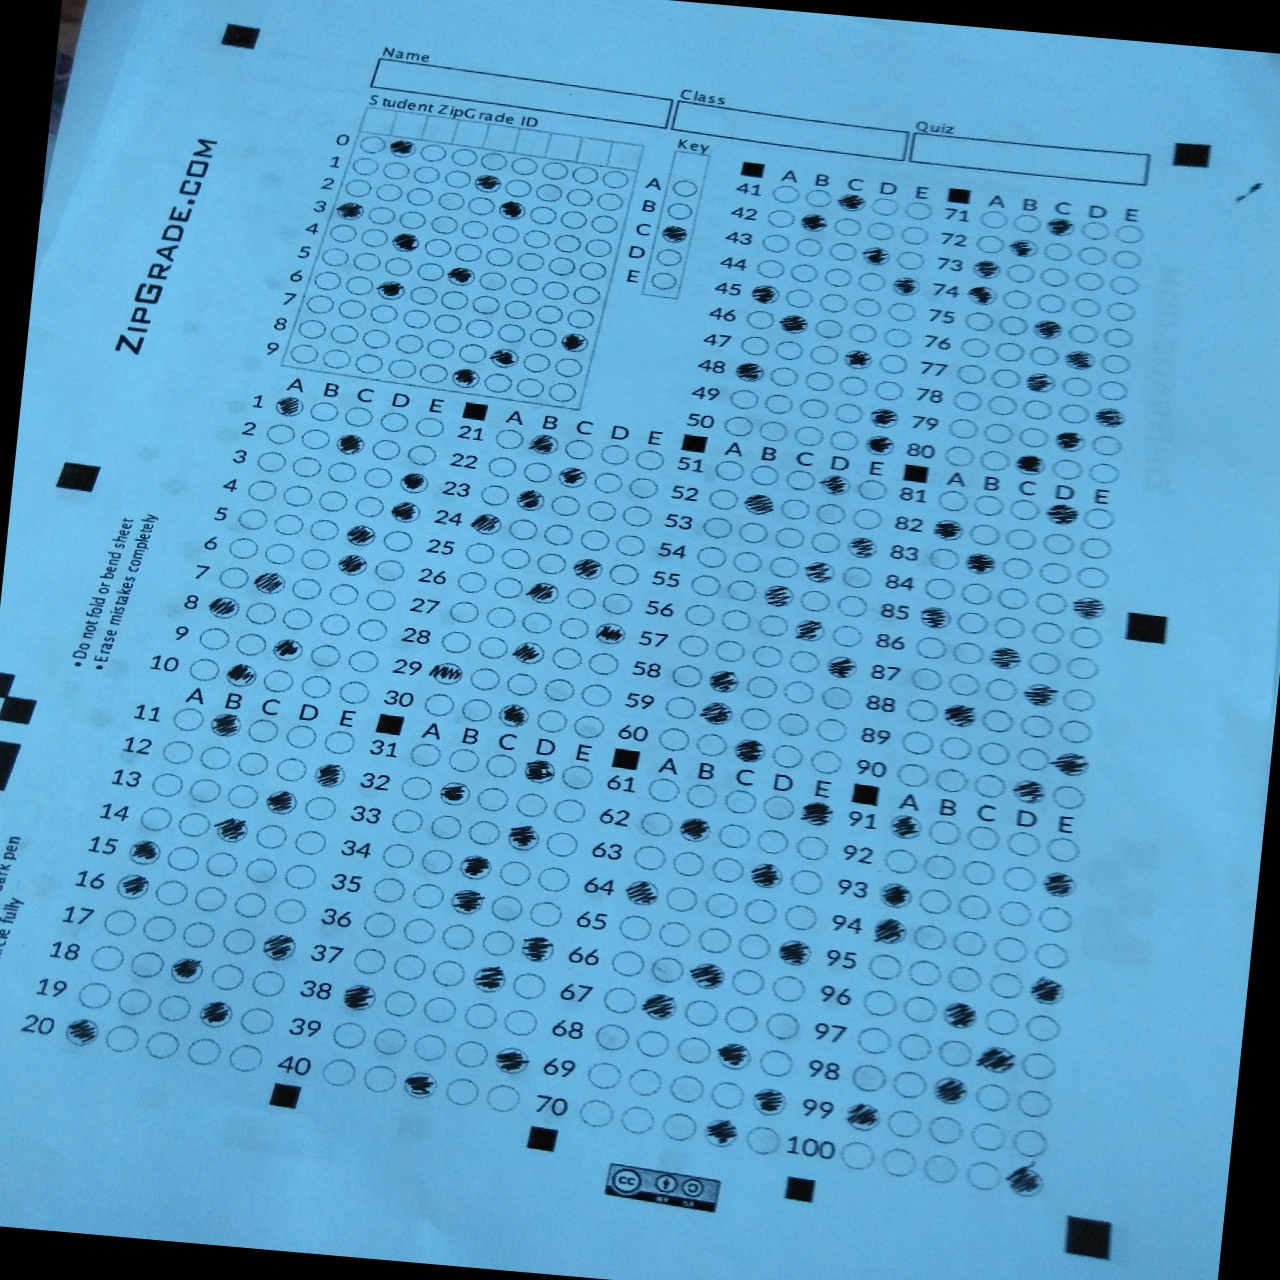not-c: (925, 1112, 967, 1148), (1008, 1126, 1051, 1160), (682, 779, 722, 813), (964, 823, 1005, 856), (855, 1024, 896, 1057), (1013, 1088, 1054, 1121), (967, 1121, 1008, 1153), (982, 1005, 1021, 1039), (742, 1124, 782, 1157), (624, 1067, 663, 1099), (599, 985, 639, 1017), (761, 1009, 801, 1042), (768, 973, 808, 1006), (694, 924, 734, 956), (701, 890, 741, 922), (629, 842, 669, 874), (644, 774, 683, 806), (720, 787, 760, 819), (1000, 863, 1040, 896), (998, 896, 1037, 928), (1032, 940, 1071, 973), (905, 958, 945, 990), (964, 1160, 1003, 1193), (617, 1103, 658, 1135), (990, 933, 1032, 965), (972, 1082, 1013, 1114), (888, 1069, 930, 1101), (847, 1062, 888, 1094), (884, 1107, 925, 1138), (836, 1139, 877, 1171), (878, 1146, 919, 1178), (919, 1153, 960, 1185), (542, 828, 580, 860), (359, 908, 397, 941), (707, 1080, 745, 1112), (666, 1073, 704, 1105), (586, 1058, 625, 1091), (656, 919, 695, 952), (662, 883, 701, 915), (669, 846, 708, 879), (925, 816, 964, 849), (1044, 833, 1083, 866), (1036, 903, 1075, 935), (949, 926, 988, 959), (867, 949, 906, 982), (986, 968, 1024, 1001), (896, 1030, 934, 1063), (577, 1098, 617, 1130), (659, 1111, 699, 1143), (606, 949, 646, 981), (633, 1028, 673, 1060), (674, 1034, 714, 1065), (756, 1048, 796, 1080), (722, 1005, 762, 1036), (728, 966, 768, 998), (734, 932, 774, 964), (781, 903, 821, 934), (788, 866, 828, 898), (794, 833, 833, 865), (713, 819, 753, 851), (636, 809, 676, 840), (879, 845, 919, 877), (958, 858, 998, 890), (860, 986, 900, 1017), (1023, 1012, 1063, 1043), (1017, 1050, 1057, 1082), (897, 728, 937, 760), (202, 849, 239, 881), (397, 774, 435, 806), (408, 738, 445, 771), (535, 862, 572, 894), (527, 897, 565, 930), (115, 985, 152, 1017), (410, 1032, 448, 1064), (349, 945, 387, 978), (1005, 829, 1042, 862), (241, 855, 280, 886), (379, 840, 417, 872), (482, 750, 520, 782), (271, 896, 309, 927), (593, 1022, 632, 1054), (614, 911, 653, 942), (648, 955, 687, 987), (683, 996, 722, 1028), (741, 896, 779, 927), (754, 826, 792, 858), (708, 853, 747, 885), (760, 792, 798, 824), (921, 850, 960, 881), (915, 884, 954, 915), (954, 891, 993, 922), (911, 920, 949, 952), (899, 993, 938, 1024), (945, 964, 983, 995), (934, 1036, 973, 1068), (1063, 653, 1102, 685), (806, 745, 845, 777), (768, 740, 806, 771), (662, 692, 701, 723), (370, 1024, 407, 1057), (430, 958, 467, 990), (489, 892, 526, 924), (409, 880, 447, 912), (152, 877, 190, 908), (129, 949, 166, 981), (103, 1022, 141, 1054), (209, 961, 246, 993), (179, 918, 217, 949), (250, 967, 287, 999), (238, 1005, 275, 1036), (185, 1035, 223, 1067), (320, 1057, 358, 1089), (483, 1082, 520, 1114), (511, 971, 549, 1002), (440, 921, 477, 953), (392, 952, 429, 983), (785, 645, 823, 676), (101, 907, 139, 938), (502, 1008, 540, 1039), (461, 1001, 499, 1032), (893, 761, 932, 791), (932, 765, 971, 796), (903, 694, 941, 724), (979, 706, 1017, 736), (1056, 717, 1095, 748), (673, 631, 712, 661), (692, 730, 731, 760), (551, 796, 587, 828), (474, 783, 510, 815), (418, 846, 455, 878), (89, 942, 125, 974), (144, 1029, 181, 1061), (157, 993, 193, 1024), (220, 926, 257, 958), (193, 884, 230, 915), (329, 1020, 366, 1051), (382, 988, 418, 1020), (281, 862, 319, 892), (558, 762, 595, 792), (465, 818, 503, 849), (139, 914, 177, 945), (231, 890, 268, 920), (227, 1043, 265, 1074), (443, 1076, 481, 1107), (478, 927, 516, 958), (400, 915, 437, 946), (422, 994, 459, 1024), (907, 665, 945, 695), (946, 669, 983, 700), (983, 674, 1021, 704), (1060, 685, 1097, 715), (668, 662, 706, 693), (912, 633, 949, 663), (937, 735, 975, 764), (712, 635, 750, 665), (77, 980, 113, 1012), (389, 806, 425, 837), (513, 790, 550, 821), (428, 811, 464, 842), (164, 843, 200, 873), (454, 1040, 490, 1070), (362, 1063, 399, 1094), (1051, 783, 1088, 813), (496, 859, 533, 888), (976, 738, 1014, 768), (921, 573, 959, 602), (736, 704, 774, 734), (742, 673, 779, 702), (829, 622, 867, 651), (370, 876, 406, 906), (483, 602, 519, 632), (282, 722, 319, 751), (444, 745, 481, 775), (1015, 743, 1051, 772), (1017, 712, 1054, 741), (656, 724, 693, 754), (750, 642, 787, 672), (755, 611, 791, 640), (719, 607, 755, 636), (971, 771, 1008, 799), (779, 678, 817, 706), (681, 601, 719, 629), (999, 554, 1036, 583), (704, 486, 742, 515), (1024, 651, 1063, 678), (847, 505, 886, 532), (260, 667, 295, 696), (454, 568, 489, 598), (298, 673, 334, 701), (171, 706, 207, 734), (421, 690, 457, 719), (542, 676, 578, 704), (475, 634, 511, 662), (549, 645, 585, 673), (598, 588, 634, 617), (236, 750, 272, 778), (292, 829, 328, 857), (813, 716, 850, 744), (775, 710, 811, 738), (1034, 588, 1070, 617), (797, 588, 835, 615), (723, 576, 761, 602), (688, 571, 726, 598), (693, 543, 730, 570), (838, 564, 876, 591), (954, 610, 992, 636), (958, 580, 995, 607), (935, 488, 973, 515), (1080, 505, 1117, 532), (1074, 564, 1111, 591), (734, 519, 771, 546), (697, 515, 735, 542), (747, 462, 784, 489), (578, 681, 612, 710), (336, 678, 372, 706), (533, 706, 568, 734), (467, 666, 502, 694), (445, 598, 481, 626), (606, 560, 641, 588), (535, 551, 570, 579), (321, 729, 356, 757), (198, 744, 233, 772), (138, 805, 173, 833), (186, 776, 222, 804), (302, 794, 338, 822), (819, 683, 855, 712), (489, 576, 525, 602), (833, 593, 870, 620), (729, 549, 765, 576), (765, 554, 802, 581), (949, 639, 986, 666), (1030, 619, 1067, 646), (1067, 625, 1103, 652), (990, 615, 1027, 642), (994, 584, 1030, 611), (966, 522, 1002, 549), (927, 545, 964, 572), (772, 523, 809, 550), (813, 501, 850, 527), (853, 476, 890, 503), (784, 467, 821, 493), (712, 457, 748, 484), (188, 656, 222, 685), (554, 615, 588, 644), (563, 584, 597, 612), (246, 717, 280, 745), (275, 756, 309, 784), (161, 738, 195, 767), (151, 771, 185, 799), (256, 822, 290, 850), (297, 546, 332, 573), (290, 576, 325, 602), (458, 696, 493, 723), (505, 670, 540, 697), (586, 651, 621, 678), (519, 610, 554, 636), (177, 812, 212, 839), (225, 783, 260, 810), (1003, 526, 1039, 553), (1078, 535, 1114, 561), (778, 497, 813, 524), (971, 491, 1007, 517), (1006, 496, 1042, 522), (1039, 531, 1075, 557), (809, 529, 845, 554), (245, 477, 279, 504), (355, 617, 389, 644), (572, 714, 606, 741), (440, 629, 474, 656), (620, 504, 654, 531), (520, 458, 554, 485), (1036, 263, 1070, 290), (1114, 222, 1148, 248), (307, 517, 342, 543), (280, 605, 315, 631), (612, 532, 647, 558), (1037, 561, 1073, 587), (765, 363, 801, 389), (942, 443, 978, 469), (855, 270, 890, 295), (754, 256, 789, 281), (762, 205, 797, 231), (382, 527, 415, 554), (309, 642, 342, 669), (542, 522, 574, 549), (578, 527, 611, 554), (485, 454, 518, 481), (633, 447, 666, 474), (962, 309, 995, 336), (325, 459, 359, 485), (316, 489, 350, 515), (217, 565, 251, 591), (327, 581, 361, 607), (365, 587, 399, 613), (244, 600, 278, 626), (234, 631, 268, 656), (462, 540, 496, 566), (505, 517, 539, 543), (585, 499, 619, 525), (598, 443, 632, 469), (492, 425, 526, 451), (837, 373, 871, 399), (772, 338, 806, 363), (812, 316, 846, 342), (844, 321, 878, 347), (879, 325, 913, 350), (783, 284, 817, 309), (978, 448, 1012, 474), (945, 417, 979, 443), (992, 338, 1026, 363), (989, 365, 1023, 390), (1017, 425, 1051, 451), (1051, 455, 1085, 481), (1085, 459, 1119, 485), (1090, 433, 1124, 458), (1060, 374, 1094, 400), (1095, 379, 1129, 404), (1098, 352, 1132, 377), (1027, 343, 1061, 369), (1067, 321, 1101, 347), (1070, 294, 1104, 320), (1035, 291, 1069, 316), (1080, 218, 1114, 244), (1075, 243, 1109, 268), (978, 206, 1012, 232), (758, 230, 792, 256), (830, 215, 864, 240), (737, 334, 772, 359), (1020, 397, 1055, 422), (866, 195, 903, 218), (290, 454, 322, 479), (226, 536, 259, 561), (319, 612, 352, 638), (197, 626, 230, 652), (499, 545, 532, 571), (592, 470, 625, 496), (722, 414, 755, 440), (757, 418, 790, 444), (833, 401, 866, 427), (876, 352, 908, 377), (798, 396, 831, 422), (762, 390, 795, 416), (802, 368, 835, 394), (743, 306, 776, 332), (817, 290, 850, 315), (986, 393, 1019, 418), (1101, 324, 1133, 349), (1107, 271, 1139, 297), (374, 558, 408, 583), (345, 649, 379, 674), (549, 493, 583, 518), (627, 476, 661, 501), (561, 437, 595, 462), (826, 428, 860, 452), (872, 380, 906, 404), (726, 387, 760, 411), (884, 299, 918, 324), (852, 295, 886, 320), (981, 421, 1015, 445), (951, 389, 985, 414), (958, 335, 992, 360), (1104, 299, 1138, 324), (1042, 239, 1076, 264), (973, 232, 1007, 257), (1010, 211, 1044, 236), (768, 182, 802, 206), (801, 185, 835, 210), (308, 399, 340, 424), (341, 406, 374, 430), (377, 409, 410, 434), (407, 443, 440, 468), (300, 427, 333, 451), (353, 493, 386, 518), (236, 506, 268, 531), (272, 512, 305, 537), (263, 542, 295, 566), (478, 483, 511, 508), (792, 423, 825, 448), (808, 342, 840, 367), (998, 313, 1030, 338), (1001, 286, 1034, 311), (1071, 267, 1104, 292), (1110, 247, 1143, 272), (823, 265, 856, 290), (788, 261, 821, 286), (1056, 402, 1090, 425), (1005, 263, 1039, 286), (828, 239, 862, 263), (312, 268, 343, 293), (414, 415, 445, 440), (254, 449, 286, 474), (361, 465, 393, 490), (282, 483, 314, 508), (568, 164, 601, 188), (577, 259, 610, 282), (400, 307, 433, 331), (369, 437, 402, 461), (264, 422, 297, 445), (956, 363, 989, 387), (897, 224, 930, 247), (894, 248, 927, 272), (794, 236, 826, 259), (903, 200, 937, 223), (478, 149, 509, 173), (540, 278, 571, 302), (327, 222, 358, 246), (321, 347, 352, 372), (502, 177, 533, 200), (373, 181, 404, 204), (588, 213, 620, 237), (490, 222, 522, 245), (428, 212, 459, 236), (343, 273, 375, 297), (483, 245, 515, 268), (516, 250, 547, 273), (571, 284, 602, 307), (297, 316, 328, 340), (393, 333, 424, 356), (482, 372, 513, 395), (353, 352, 384, 375), (864, 220, 897, 243), (533, 181, 564, 204), (443, 168, 474, 191), (410, 163, 441, 186), (350, 155, 381, 178), (397, 209, 428, 232), (470, 293, 501, 316), (527, 326, 558, 349), (433, 311, 463, 334), (369, 302, 400, 326), (425, 336, 456, 360), (547, 381, 578, 404), (515, 376, 545, 400), (509, 155, 540, 177), (380, 159, 411, 182), (464, 195, 496, 217), (527, 205, 559, 227), (665, 200, 696, 223), (583, 237, 614, 259), (520, 229, 552, 251), (458, 218, 490, 240), (367, 204, 399, 226), (360, 226, 392, 248), (508, 274, 539, 297), (319, 246, 350, 268), (408, 285, 440, 307), (440, 290, 471, 312), (501, 298, 532, 320), (522, 352, 553, 374), (496, 322, 527, 345), (359, 328, 390, 350), (358, 134, 388, 156), (417, 142, 448, 164), (601, 168, 632, 190), (593, 191, 624, 213), (343, 177, 374, 199), (436, 190, 467, 212), (558, 207, 588, 230), (669, 178, 700, 200), (648, 270, 679, 292), (552, 232, 583, 254), (350, 250, 381, 272), (384, 256, 415, 278), (415, 261, 445, 284), (422, 237, 452, 259), (452, 241, 483, 264), (546, 256, 577, 278), (478, 271, 509, 293), (533, 304, 564, 326), (565, 308, 595, 331), (464, 318, 495, 340), (338, 298, 368, 320), (305, 293, 335, 315), (329, 324, 360, 346), (456, 343, 486, 366), (288, 342, 319, 365), (448, 147, 479, 168), (563, 188, 594, 209), (386, 358, 417, 379), (539, 159, 570, 181), (404, 186, 435, 207), (654, 247, 685, 268), (552, 356, 583, 377), (418, 363, 449, 384)
taken-c: (1003, 1165, 1048, 1201), (940, 999, 983, 1034), (1024, 975, 1070, 1008), (701, 1114, 742, 1150), (930, 1074, 971, 1109), (976, 1042, 1017, 1077), (843, 1101, 883, 1136), (195, 999, 236, 1032), (469, 964, 510, 996), (503, 822, 544, 855), (870, 915, 911, 948), (1020, 678, 1061, 710), (874, 878, 917, 910), (1051, 749, 1094, 781), (940, 701, 982, 733), (749, 1085, 789, 1118), (258, 932, 299, 964), (166, 955, 207, 987), (61, 1016, 102, 1048), (400, 1068, 441, 1099), (517, 934, 558, 966), (445, 885, 486, 917), (454, 853, 495, 885), (433, 779, 474, 811), (518, 757, 559, 789), (492, 701, 533, 733), (1008, 776, 1049, 808), (884, 812, 926, 843), (339, 982, 379, 1014), (492, 1044, 532, 1076), (987, 644, 1027, 675), (1040, 869, 1081, 899), (775, 937, 813, 968), (113, 871, 152, 901), (747, 860, 787, 891), (622, 878, 662, 908), (641, 992, 681, 1022), (213, 816, 252, 846), (715, 1041, 754, 1071), (915, 604, 955, 633), (124, 838, 162, 869), (678, 815, 715, 845), (223, 661, 261, 690), (309, 761, 348, 790), (263, 788, 301, 817), (962, 551, 1001, 580), (931, 515, 969, 544), (252, 568, 290, 598), (731, 737, 769, 767), (690, 962, 728, 992), (1071, 594, 1110, 622), (206, 593, 243, 622), (429, 659, 465, 688), (509, 639, 545, 668), (592, 620, 628, 649), (469, 511, 505, 540), (524, 429, 560, 458), (799, 799, 836, 829), (270, 636, 307, 665), (510, 486, 547, 515), (824, 653, 862, 681), (1051, 427, 1089, 455), (1061, 347, 1099, 374), (526, 579, 561, 608), (570, 554, 605, 584), (802, 558, 838, 586), (700, 700, 736, 728), (1030, 316, 1067, 345), (1007, 234, 1043, 263), (207, 712, 245, 738), (760, 583, 797, 610), (707, 668, 744, 695), (1021, 369, 1058, 396), (553, 464, 588, 492), (794, 617, 830, 644), (1044, 502, 1081, 529), (1013, 452, 1049, 479), (964, 282, 1000, 309), (968, 256, 1005, 282), (1043, 215, 1080, 241), (731, 358, 767, 384), (862, 433, 897, 459), (1092, 406, 1128, 433), (844, 535, 880, 560), (343, 522, 377, 549), (335, 551, 369, 578), (777, 311, 811, 338), (840, 345, 874, 372), (388, 499, 423, 525), (795, 210, 830, 236), (857, 243, 892, 268), (745, 281, 781, 307), (866, 404, 901, 430), (818, 474, 853, 499), (742, 491, 777, 517), (658, 222, 692, 247), (835, 189, 869, 215), (273, 394, 306, 420), (397, 470, 430, 496), (888, 274, 922, 299), (488, 346, 520, 370), (450, 365, 483, 389), (559, 331, 591, 355), (387, 136, 420, 159), (445, 265, 478, 288), (333, 433, 366, 456), (335, 199, 367, 223), (390, 231, 422, 254), (471, 172, 504, 195), (375, 280, 408, 302), (496, 199, 527, 222)
